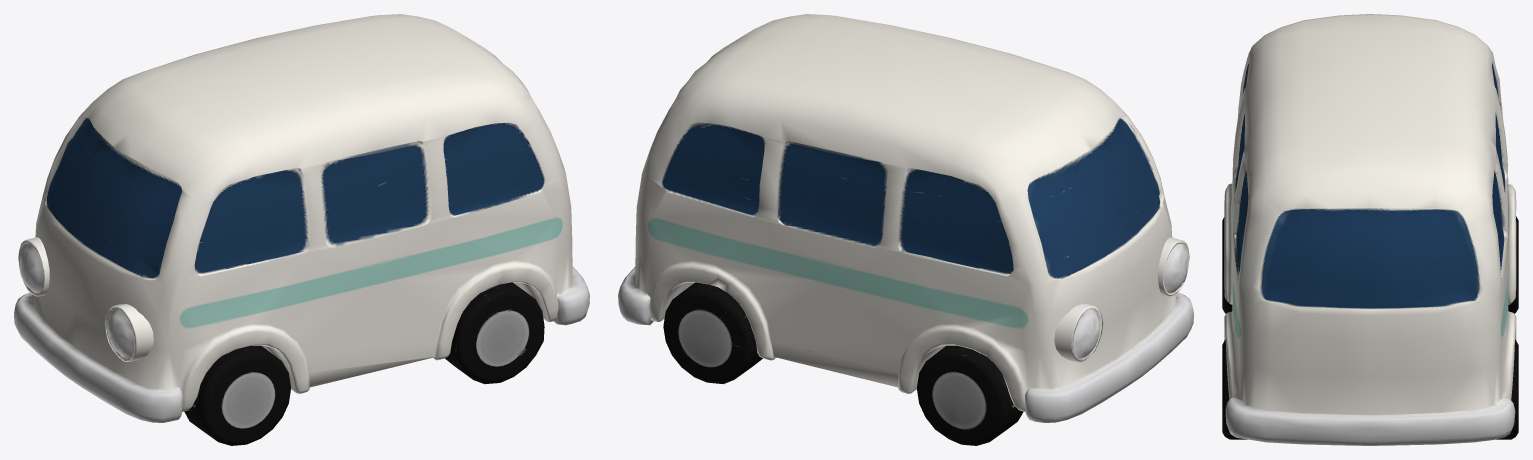
The model's file is van.glb.
3 views of the same model, side by side, from view 1: azimuth 30°, elevation 25°; view 2: azimuth 150°, elevation 25°; view 3: azimuth 270°, elevation 25° (orthographic).
Size of the model in its own units: 0.9565 by 0.5703 by 0.5137.
Materials: 1 (1 with a texture image).
